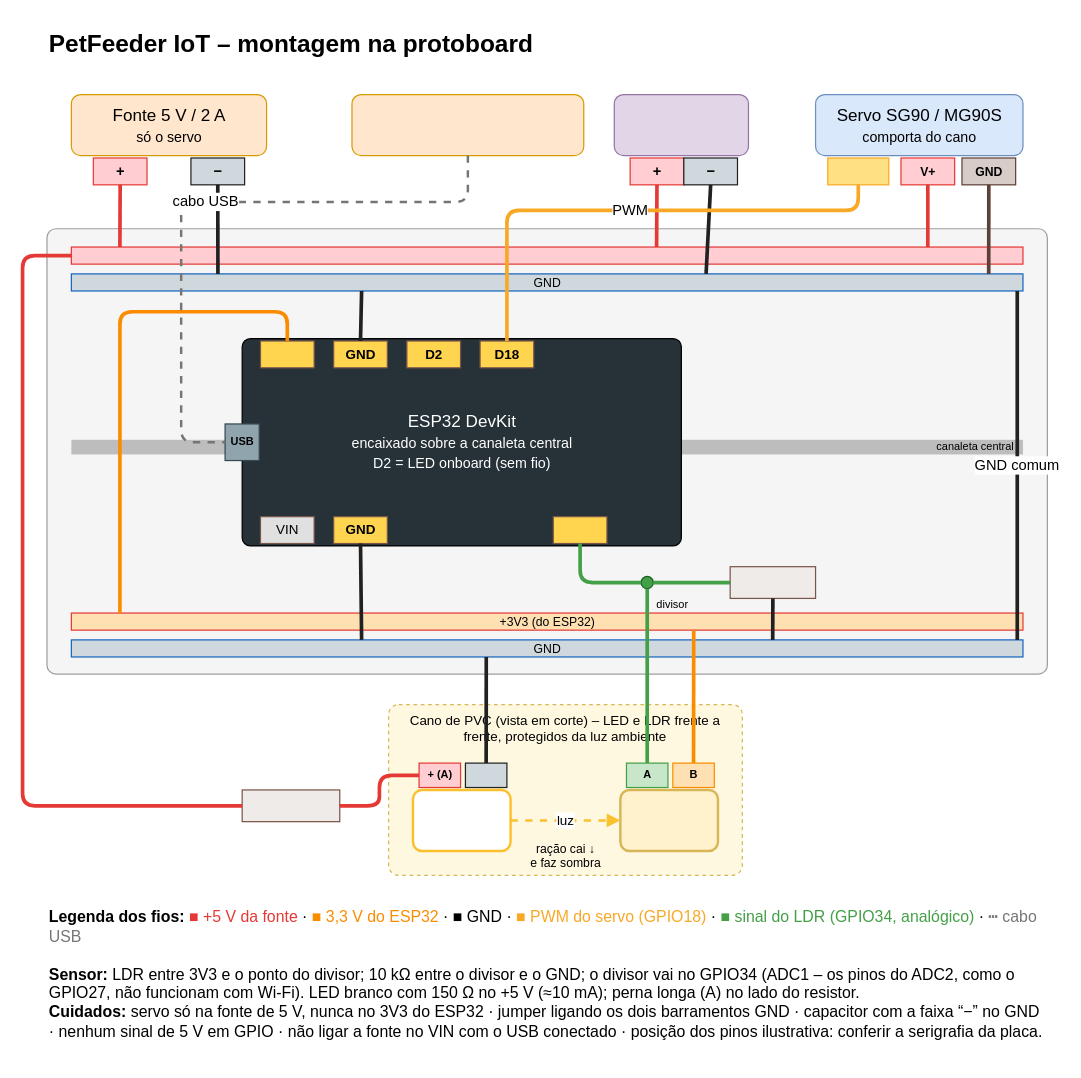
Image size: 1081x1078. Some labels were removed from this diagram. Each missing label, with the centre of its shape:
"+5V (fonte externa)" goes at point 546,255.
"10 kΩ" goes at point 772,581.
"150 Ω" goes at point 290,805.
"3V3" goes at point 286,354.
"Capacitor 470 µF / ≥10 V" goes at point 680,124.
"D34" goes at point 579,529.
"LDR" goes at point 669,820.
"LED branco" goes at point 461,820.
"SINAL" goes at point 858,171.
"USB do PC / carregador alimenta o ESP32" goes at point 467,124.
"− (K)" goes at point 485,775.
